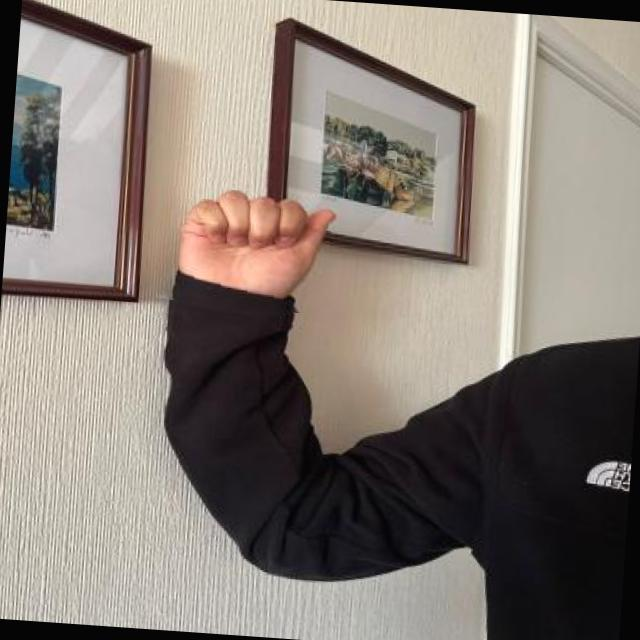A: (152, 185, 346, 318)
